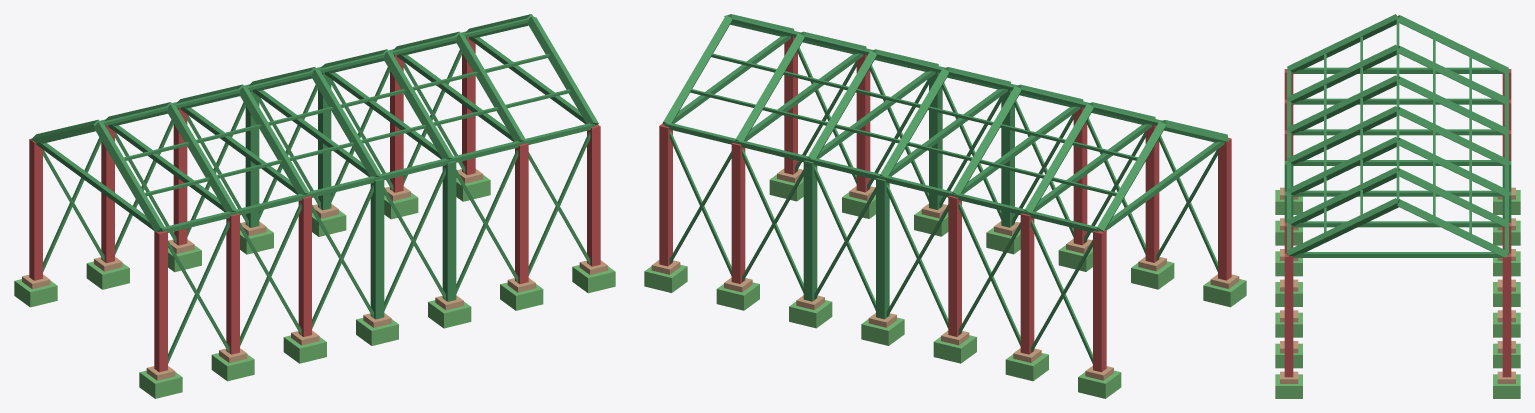
The model's file is 02_industrial_design_status_pass_fail.glb.
3 views of the same model, side by side, from view 1: azimuth 30°, elevation 25°; view 2: azimuth 150°, elevation 25°; view 3: azimuth 270°, elevation 25° (orthographic). The views are drawn at different scales.
Visible parts, largest first — view 1: world; view 2: world; view 3: world.
Boxes of the visible parts, <box> form: world: <box>14,14,615,398</box>; world: <box>644,14,1246,398</box>; world: <box>1275,14,1520,398</box>.
Size of the model in its own units: 6.38 by 2.96 by 3.38.
